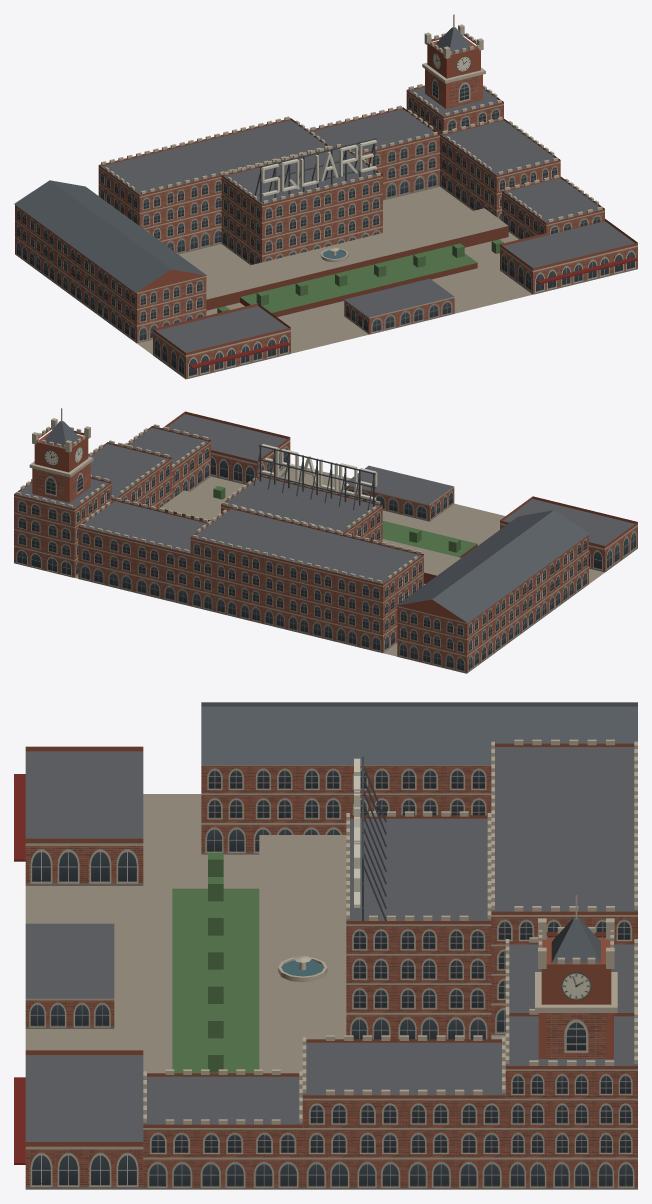
Rendered from ghirardelli_square.glb.
3 renders of one model, top to bottom at view 1: azimuth 30°, elevation 25°; view 2: azimuth 150°, elevation 25°; view 3: azimuth 270°, elevation 25°, orthographic. The views are drawn at different scales.
Visible parts, largest first — view 1: ghirardelli_square; view 2: ghirardelli_square; view 3: ghirardelli_square.
Boxes of the visible parts, x1=… form: ghirardelli_square: x1=14, y1=14, x2=637, y2=379; ghirardelli_square: x1=14, y1=408, x2=637, y2=673; ghirardelli_square: x1=14, y1=702, x2=637, y2=1189.
Bounding box in the file's own units: 127 × 40 × 84.5.
2 materials, 2 textured.
